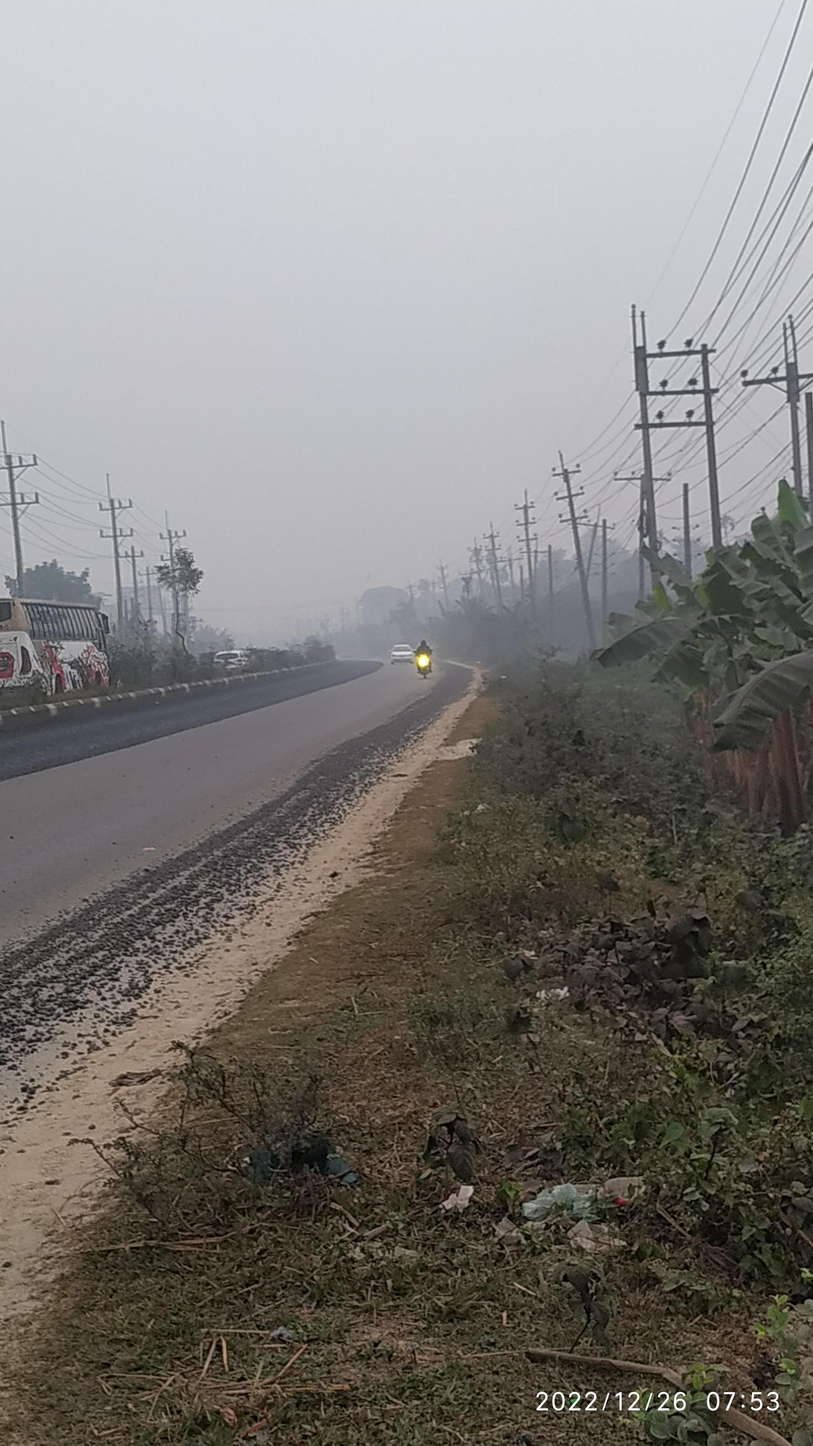Bike: (408, 631, 439, 690)
Bus: (4, 577, 126, 706)
Car: (382, 636, 420, 676)
